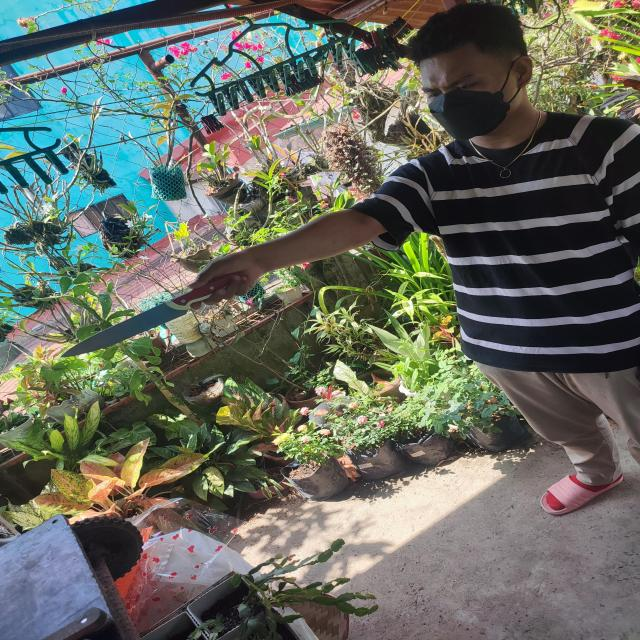knife: (61, 292, 188, 358)
